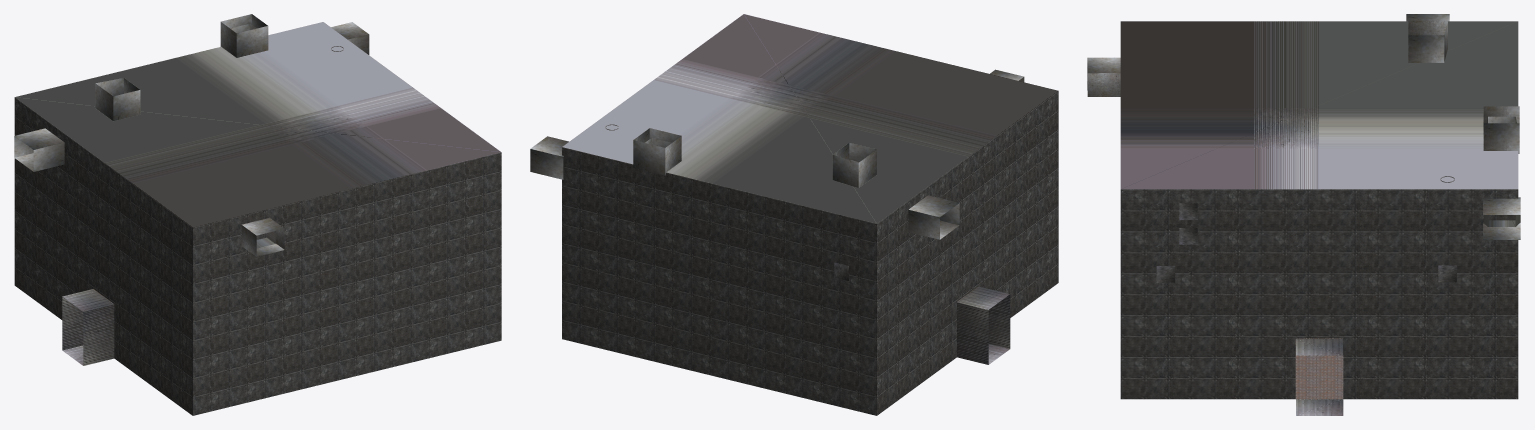
File: room_1.fbx
3 views of the same model, side by side, from view 1: azimuth 30°, elevation 25°; view 2: azimuth 150°, elevation 25°; view 3: azimuth 270°, elevation 25° (orthographic). The views are drawn at different scales.
Visible parts, largest first — view 1: Plane.002, Plane.004, Plane.001, Plane.003; view 2: Plane.002, Plane.004, Plane.001, Plane.003; view 3: Plane.002, Plane.004, Plane.001, Plane, Plane.005.
Part boxes in pixels (x1,y1,x2,y2): Plane.002: (14, 97, 501, 415); Plane.004: (15, 22, 500, 227); Plane.001: (14, 14, 369, 256); Plane.003: (62, 289, 114, 365); Plane.002: (562, 91, 1058, 415); Plane.004: (562, 14, 1058, 223); Plane.001: (530, 69, 1024, 239); Plane.003: (957, 286, 1010, 364); Plane.002: (1120, 189, 1518, 399); Plane.004: (1120, 21, 1518, 189); Plane.001: (1087, 14, 1520, 239); Plane: (1295, 338, 1343, 399); Plane.005: (1296, 339, 1343, 415).
Size of the model in its own units: 1201 by 661 by 1090.
9 materials, 9 textured.
